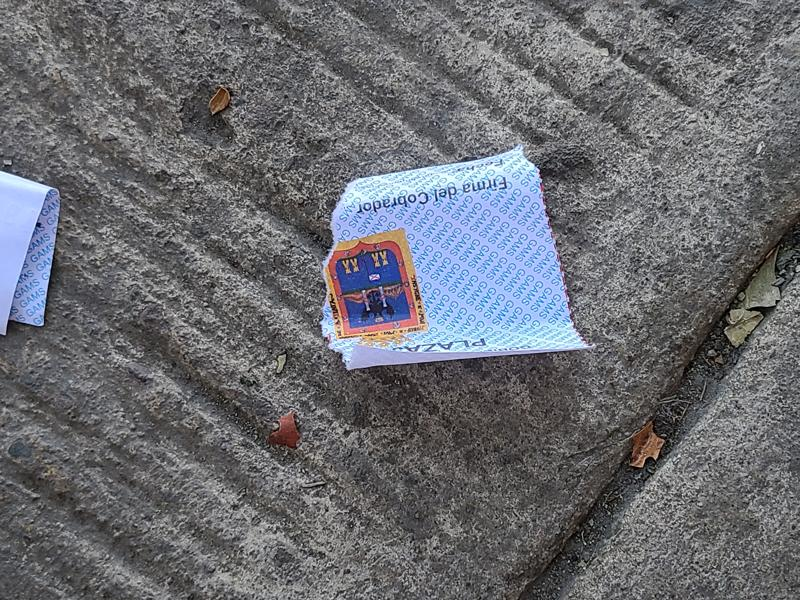papel: (319, 147, 589, 373)
